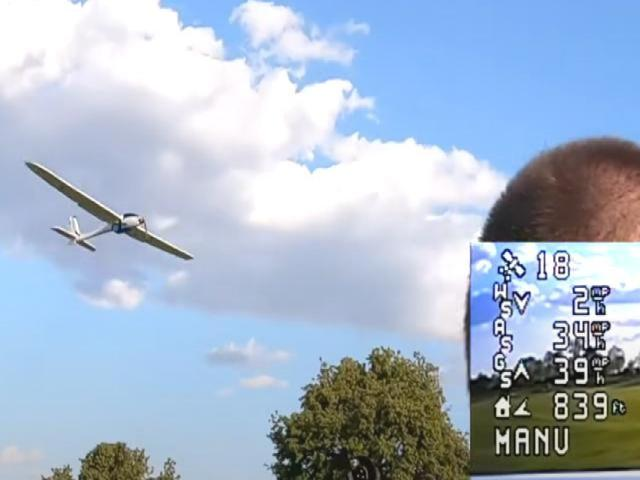iha: (21, 154, 194, 263)
